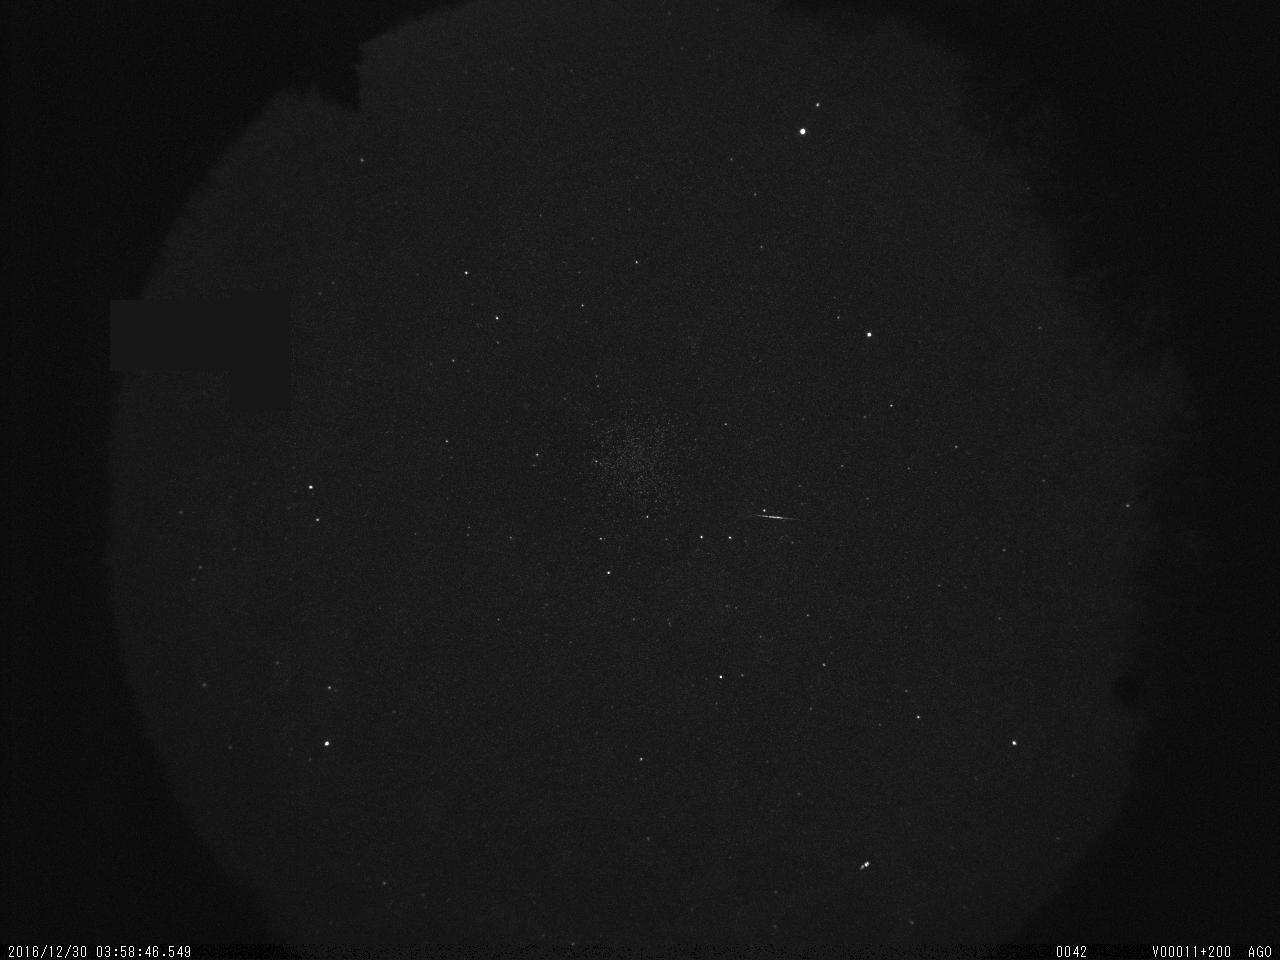meteor: (752, 508, 810, 535)
